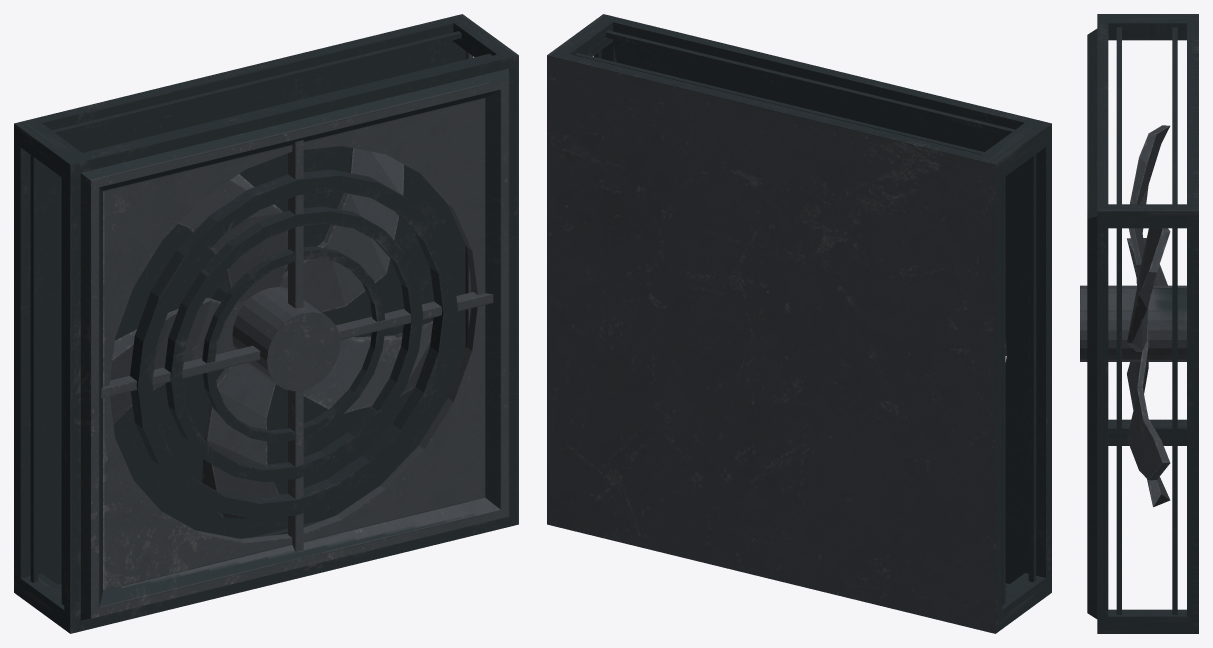
File: FanForGas.gltf
3 views of the same model, side by side, from view 1: azimuth 30°, elevation 25°; view 2: azimuth 150°, elevation 25°; view 3: azimuth 270°, elevation 25° (orthographic). The views are drawn at different scales.
Visible parts, largest first — view 1: Wiatrak, Ostrza; view 2: Wiatrak; view 3: Wiatrak, Ostrza.
Boxes of the visible parts, x1,y1,x2,y2 form: Wiatrak: (14,14,518,633); Ostrza: (110,148,432,519); Wiatrak: (547,14,1051,633); Wiatrak: (1080,14,1198,633); Ostrza: (1127,125,1170,507).
Size of the model in its own units: 2 by 2 by 0.5091.
Materials: 1 (1 with a texture image).
